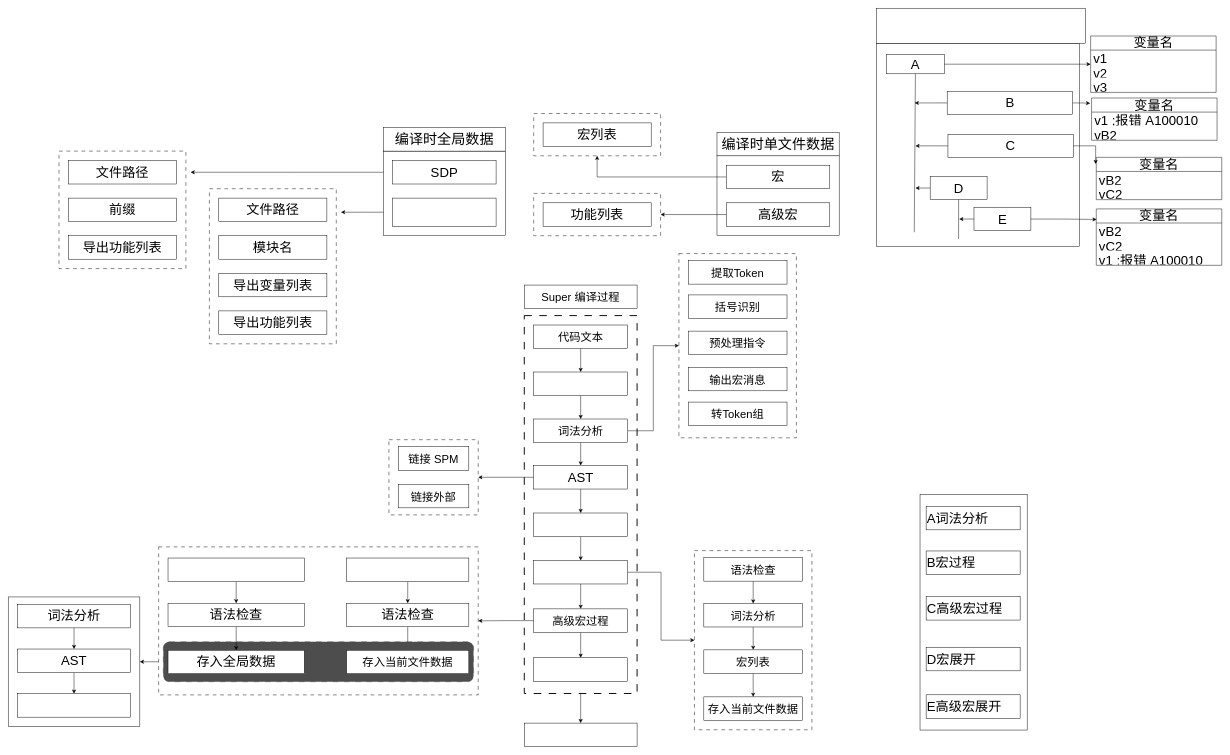
The diagram is 1230 pixels wide and 755 high, and some of its shapes have lost their labels. The shapes that lost their labels are listed below. From the top down, each one's centre as x and y in pixels, then its label:
At [980,25]: "变量名的作用域范围".
At [444,212]: "SPM".
At [580,384]: "去除注释".
At [580,525]: "AST-LOW".
At [236,570]: "从外部导入的 SDP 文件".
At [407,570]: "内部的高级宏定义".
At [580,572]: "宏过程".
At [580,669]: "LLVM IR".
At [73,705]: "字节码".
At [580,735]: "LLVM 编译后端".
